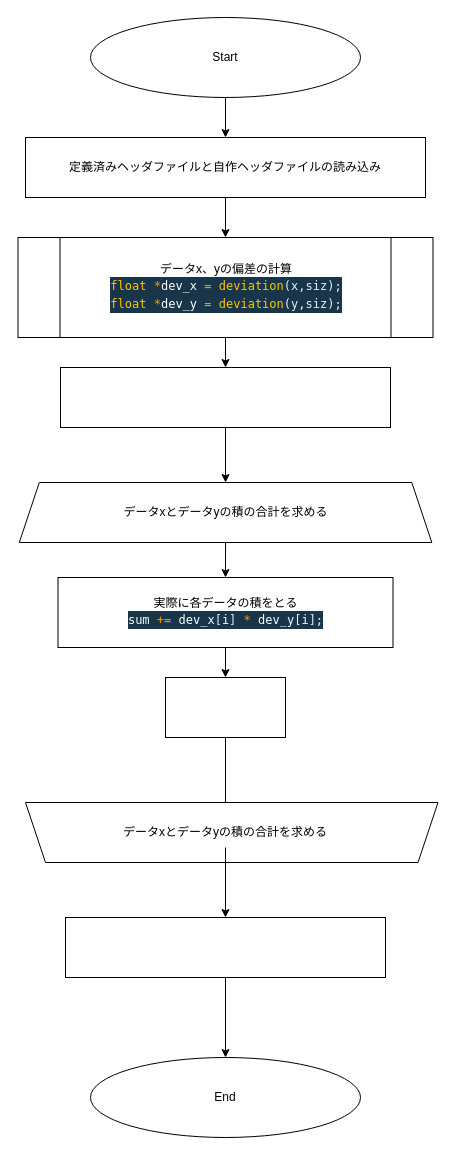
This 455x1155 diagram has some shape labels left out. Here are the shapes that lost their labels. From the top down, the box of each, then its label:
(60, 366, 390, 428): 変数iの初期化 int i = 0;
(164, 676, 286, 738): i++
(64, 916, 386, 978): 結果を返す return sum / siz ;
